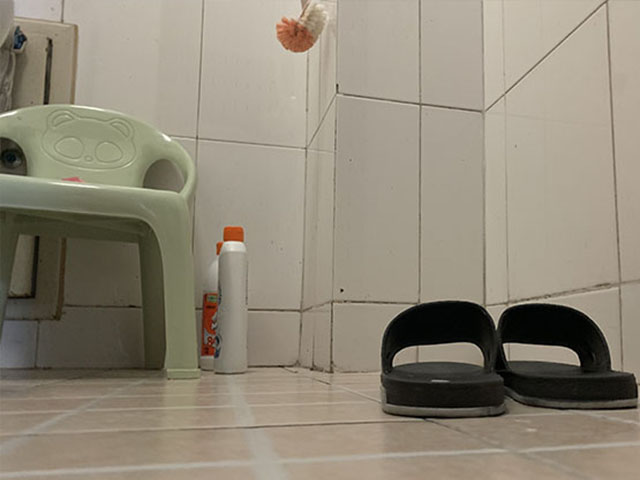slippers: (499, 302, 640, 414), (375, 298, 498, 419)
stool: (1, 101, 202, 382)
